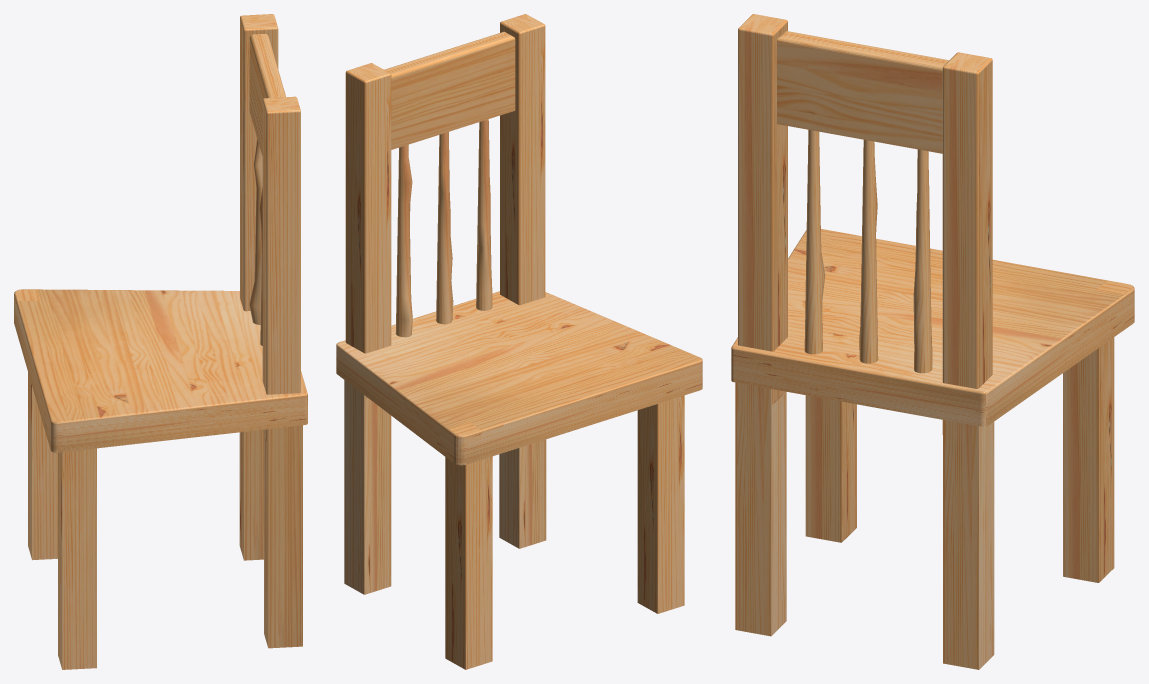
File: sillaTri.obj
3 renders of one model, left to right at view 1: azimuth 30°, elevation 25°; view 2: azimuth 150°, elevation 25°; view 3: azimuth 270°, elevation 25°, orthographic. The views are drawn at different scales.
Parts seen in each view (by area): view 1: silla.001_silla.002; view 2: silla.001_silla.002; view 3: silla.001_silla.002.
Boxes of the visible parts, left/top/right/bottom form: silla.001_silla.002: left=14, top=14, right=307, bottom=669; silla.001_silla.002: left=336, top=14, right=702, bottom=669; silla.001_silla.002: left=731, top=14, right=1134, bottom=669.
Size of the model in its own units: 0.5501 by 0.9337 by 0.5657.
Materials: 1 (1 with a texture image).
